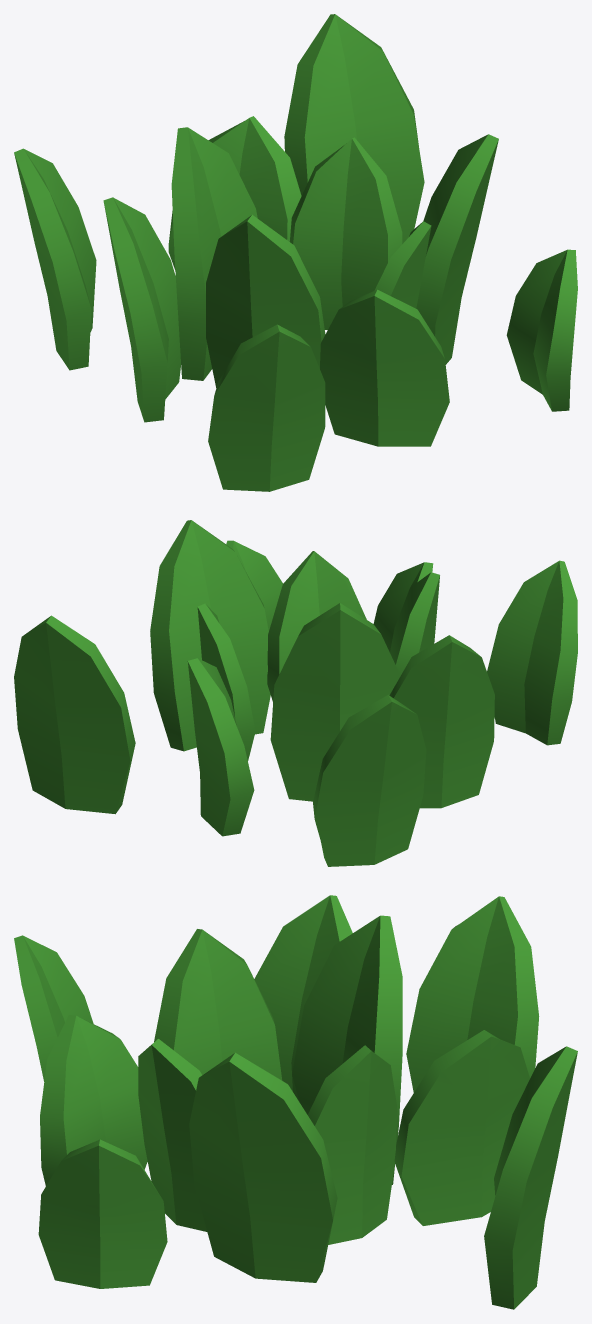
File: grass4.glb
3 renders of one model, top to bottom at view 1: azimuth 30°, elevation 25°; view 2: azimuth 150°, elevation 25°; view 3: azimuth 270°, elevation 25°, orthographic. The views are drawn at different scales.
Parts seen in each view (by area): view 1: Grass_1_D_Color1; view 2: Grass_1_D_Color1; view 3: Grass_1_D_Color1.
Part boxes in pixels (x1,y1,x2,y2): Grass_1_D_Color1: (14, 14, 577, 491); Grass_1_D_Color1: (14, 520, 577, 866); Grass_1_D_Color1: (14, 895, 577, 1309).
Size of the model in its own units: 1.08 by 0.5885 by 1.18.
